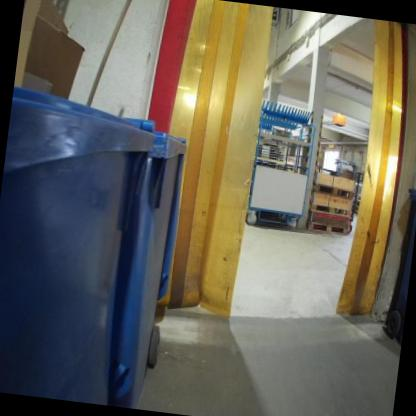pallet: (311, 179, 356, 202), (305, 221, 351, 239), (307, 201, 352, 219)
pallet_truck: (344, 165, 367, 239)
stillage: (254, 129, 291, 164)
